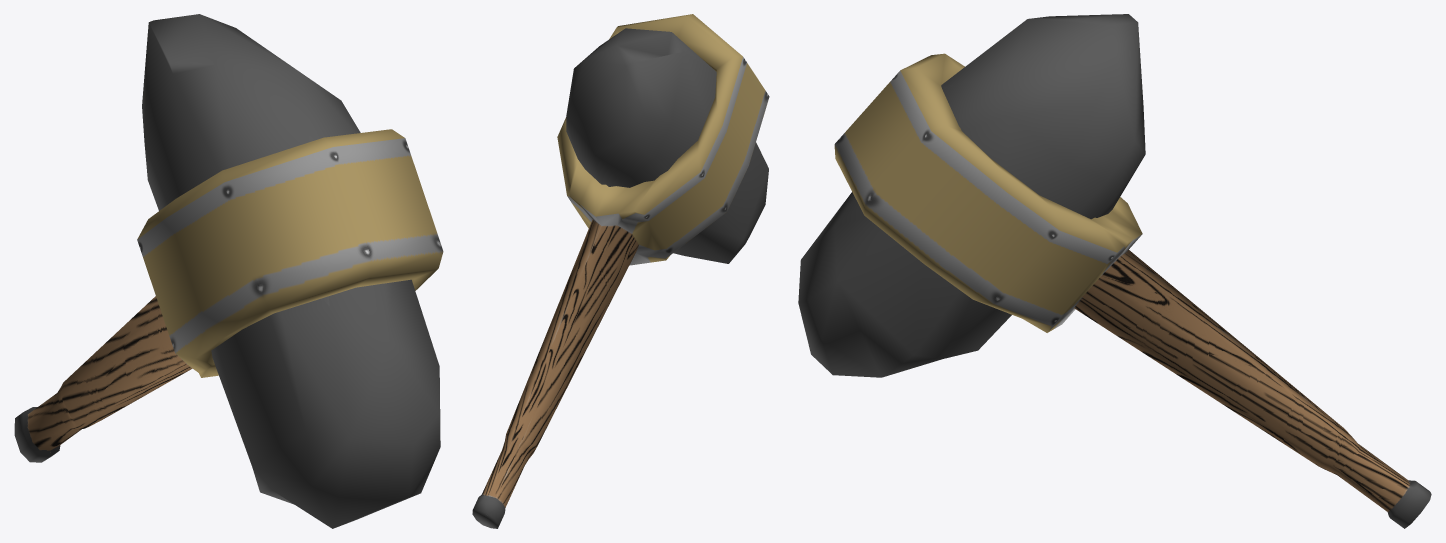
Rendered from maso.fbx.
3 views of the same model, side by side, from view 1: azimuth 30°, elevation 25°; view 2: azimuth 150°, elevation 25°; view 3: azimuth 270°, elevation 25° (orthographic). The views are drawn at different scales.
Parts seen in each view (by area): view 1: MASO; view 2: MASO; view 3: MASO.
Part boxes in pixels (bbox=[...]): MASO: bbox=[14, 14, 443, 528]; MASO: bbox=[472, 14, 769, 528]; MASO: bbox=[798, 14, 1431, 528].
Size of the model in its own units: 46.13 by 121 by 140.
